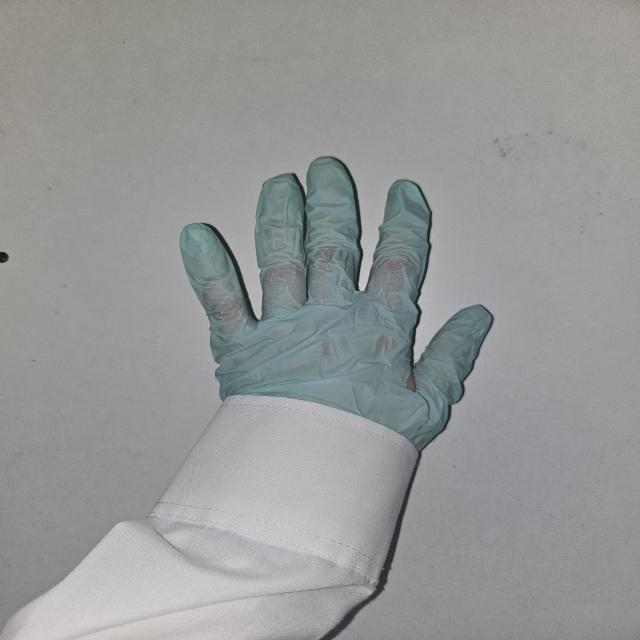gloves_damaged: (177, 152, 499, 458)
